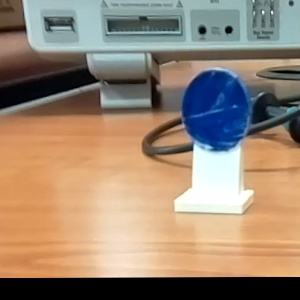circle: (161, 62, 257, 219)
